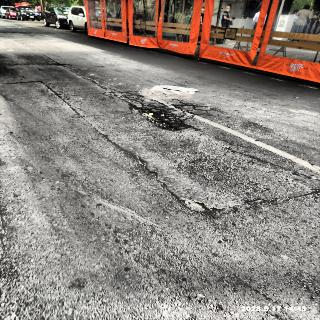alligator-crack: (90, 81, 144, 103), (148, 96, 216, 110)
crack: (124, 142, 246, 220), (248, 187, 320, 212), (36, 48, 84, 78), (49, 88, 86, 126), (88, 118, 119, 149), (1, 80, 55, 87)
pothole: (129, 104, 178, 133), (0, 30, 60, 35)
